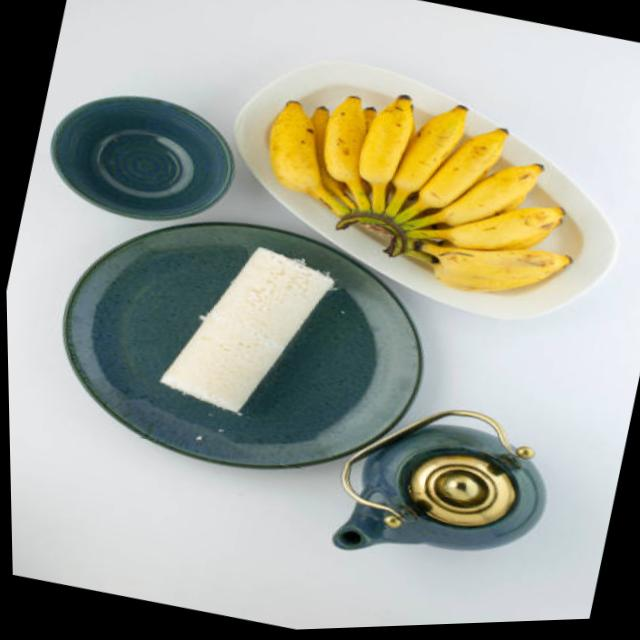BANANA: (259, 93, 578, 294)
PUTTU: (155, 236, 342, 417)
